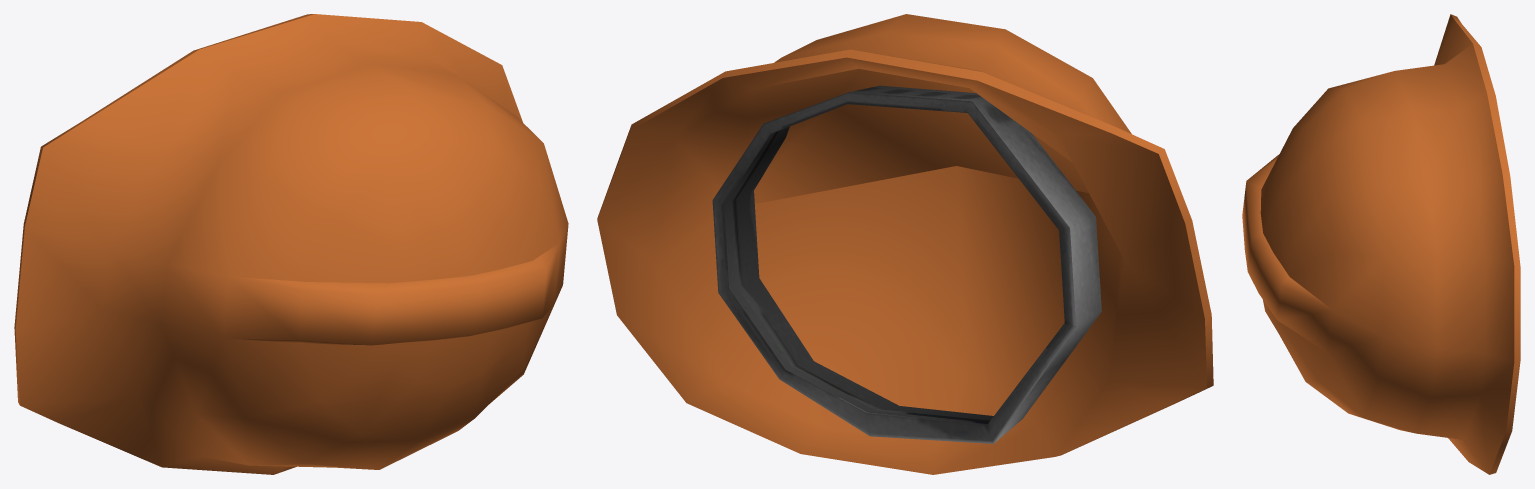
The model's file is engineer_helmet.obj.
3 renders of one model, left to right at view 1: azimuth 30°, elevation 25°; view 2: azimuth 150°, elevation 25°; view 3: azimuth 270°, elevation 25°, orthographic. The views are drawn at different scales.
Parts seen in each view (by area): view 1: engineer_helmet; view 2: engineer_helmet; view 3: engineer_helmet.
Part boxes in pixels (left/top/right/bottom): engineer_helmet: left=14, top=14, right=568, bottom=474; engineer_helmet: left=597, top=14, right=1213, bottom=474; engineer_helmet: left=1242, top=14, right=1520, bottom=474.
Size of the model in its own units: 13.97 by 10.05 by 7.31.
1 material, 1 textured.
